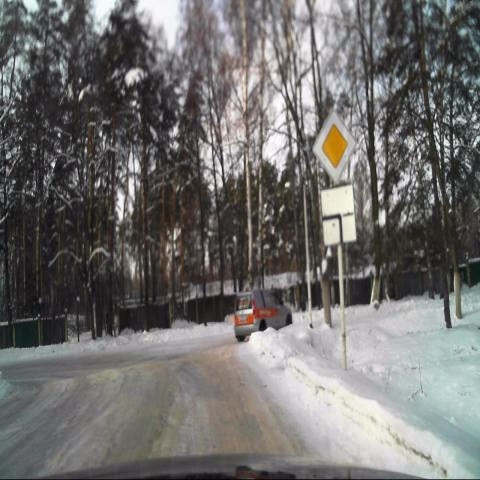8_13: (320, 185, 356, 246)
